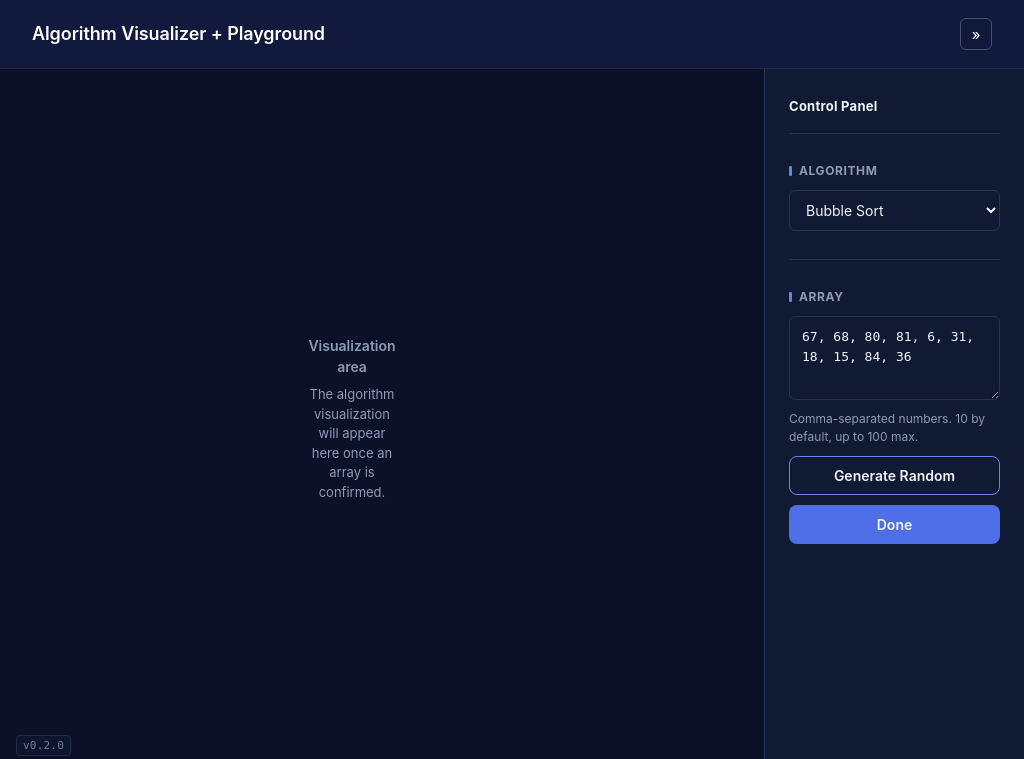
Test case: App — Code View placement › Code View is rendered inside the main visualization region
This screenshot has width=1024, height=759.
Replace the text in the text box labelled "Array" with "8, 3, 5, 1" at (894, 358), box [789,316,1000,400]
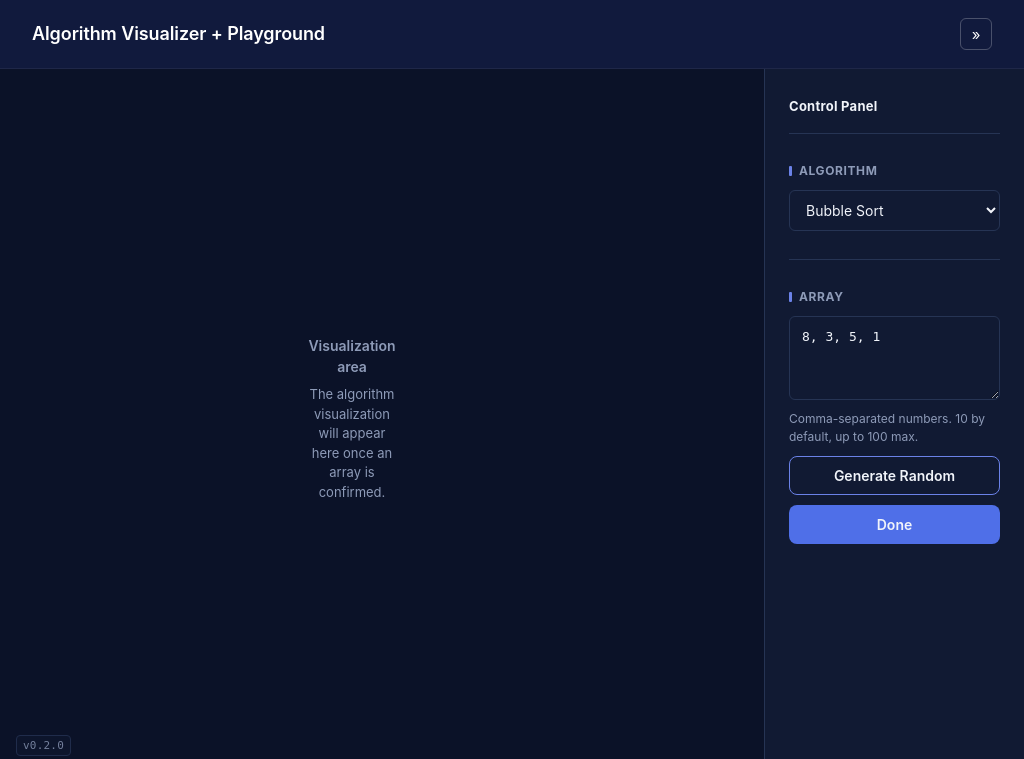
Click the button "Done" at (894, 524), box [789,505,1000,544]
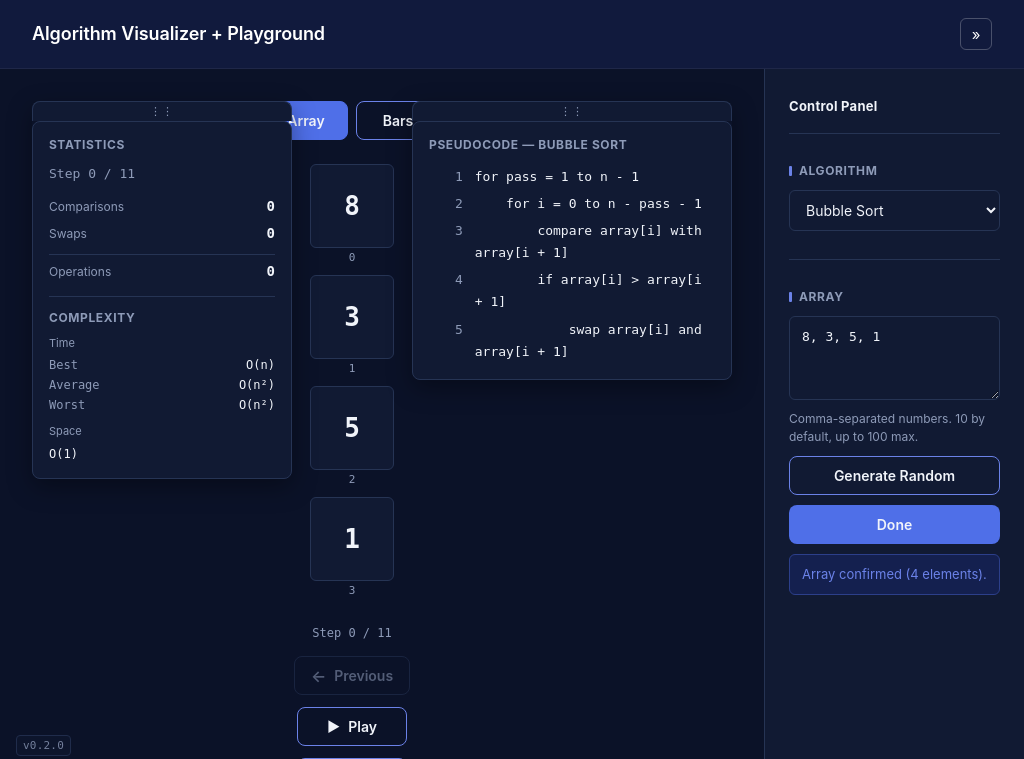
Expected: the element with class "code-view" is shown, [412,121,732,380]
